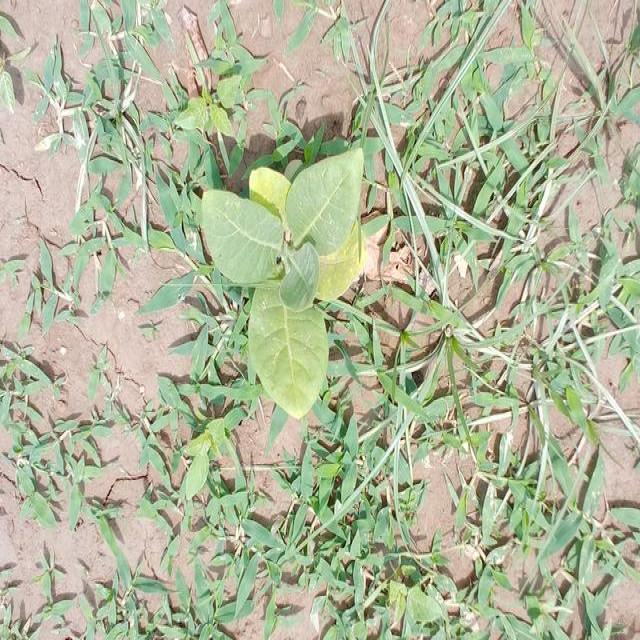crop: (214, 159, 364, 419)
